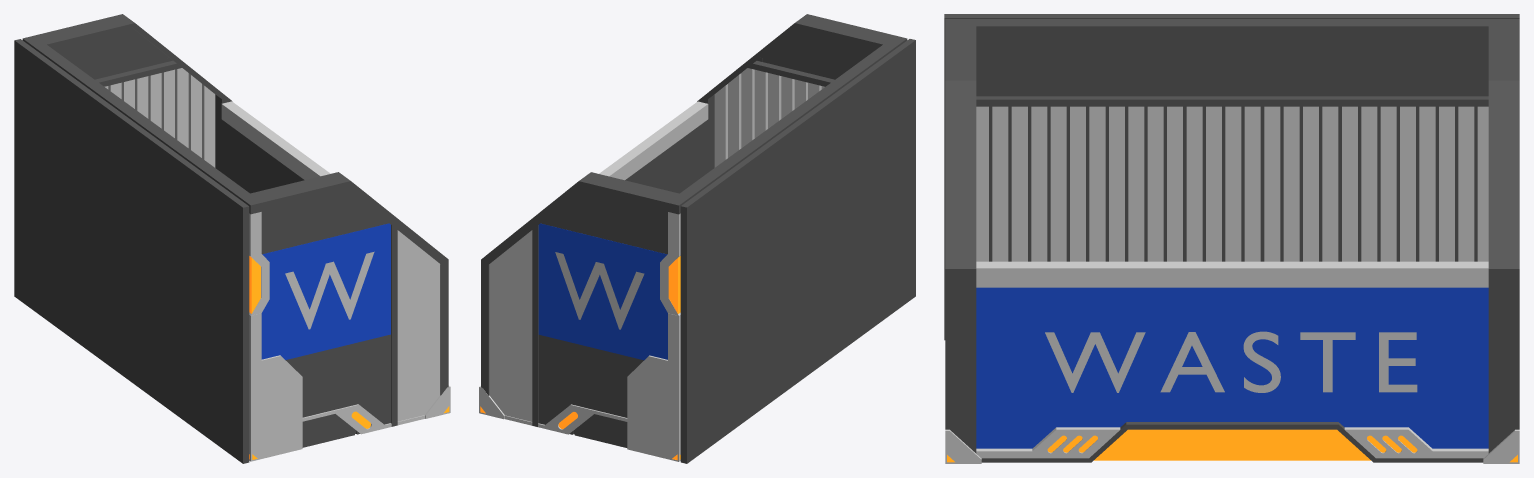
The model's file is Waste.fbx.
3 views of the same model, side by side, from view 1: azimuth 30°, elevation 25°; view 2: azimuth 150°, elevation 25°; view 3: azimuth 270°, elevation 25° (orthographic). The views are drawn at different scales.
Visible parts, largest first — view 1: closing_box, trash_can, trash_can_light, blue_banner, W1, lightning; view 2: closing_box, trash_can, trash_can_light, blue_banner, W2, lightning; view 3: trash_can, trash_can_light, blue_banner, lightning, WASTE, closing_box.
Part boxes in pixels (box(x1,y1,x2,y2)): closing_box: box(14, 39, 249, 463); trash_can: box(22, 14, 448, 447); trash_can_light: box(104, 68, 450, 461); blue_banner: box(261, 223, 390, 359); W1: box(285, 251, 374, 329); lightning: box(249, 256, 449, 459); closing_box: box(680, 39, 915, 463); trash_can: box(481, 14, 907, 447); trash_can_light: box(479, 68, 824, 461); blue_banner: box(538, 223, 667, 360); W2: box(555, 252, 644, 329); lightning: box(480, 256, 680, 460); trash_can: box(945, 19, 1519, 462); trash_can_light: box(945, 106, 1519, 463); blue_banner: box(976, 287, 1488, 448); lightning: box(947, 429, 1517, 462); WASTE: box(1045, 331, 1417, 392); closing_box: box(944, 14, 1519, 340).
Bounding box in the file's own units: 2.12 × 4.05 × 2.5.
